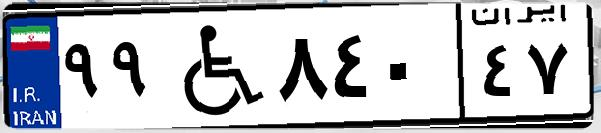0: (385, 28, 445, 110)
4: (330, 28, 385, 110), (475, 38, 525, 113)
7: (525, 38, 570, 115)
8: (270, 28, 330, 110)
9: (57, 26, 110, 100), (110, 28, 158, 98)
ژ (معلولین و جانبازان): (158, 12, 270, 120)
